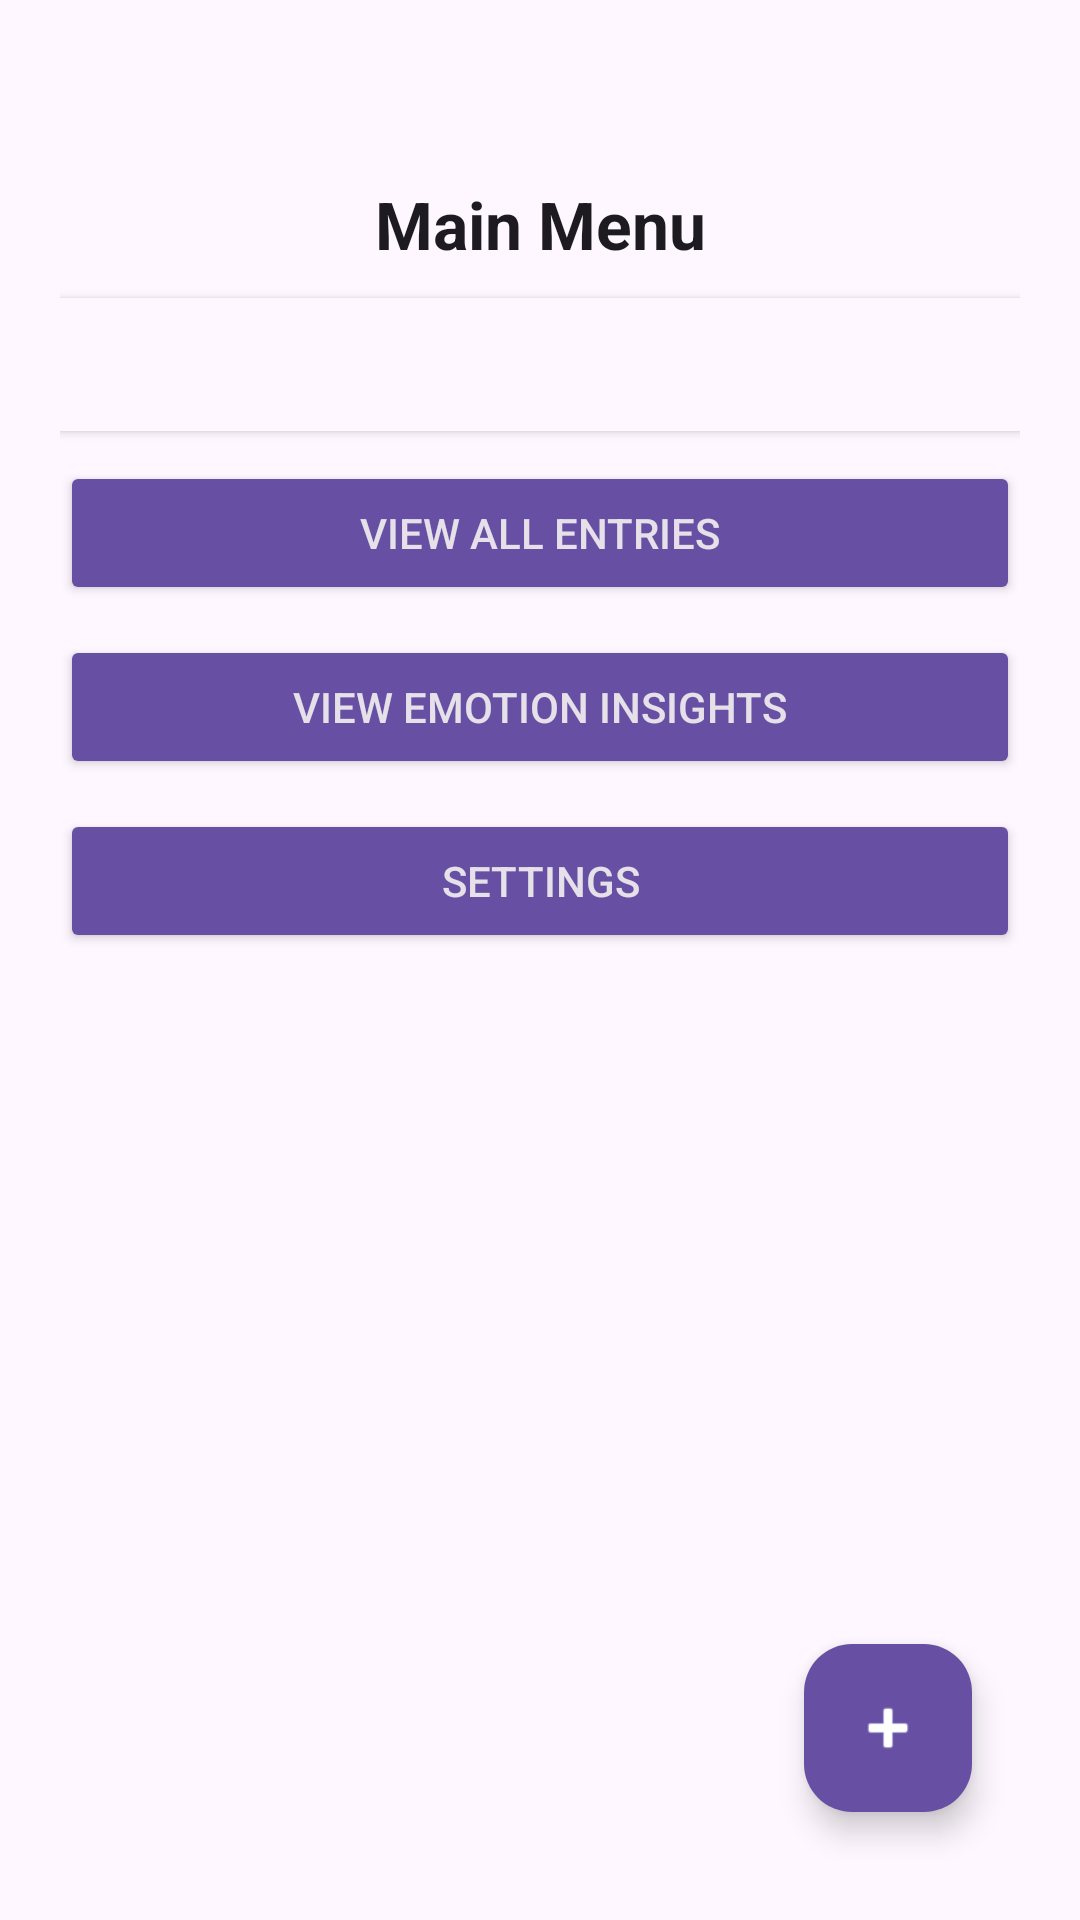

Named icons in this screenshot (1080 × 1920) and their bounding boxes, bbox(x1, y1, x2, y2):
Write new journal entry: bbox(804, 1644, 972, 1812)
